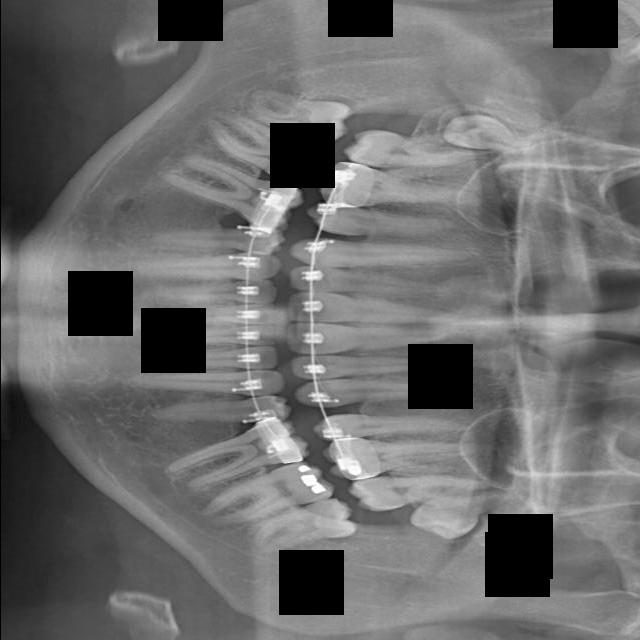3M ESPE Implant: (444, 111, 531, 155)
AGS Medikal Implant: (199, 456, 332, 533)
AMerOss Implant: (171, 412, 304, 509)
Amalgam filling: (351, 126, 459, 172)
Bicon Implant: (151, 396, 287, 428)
BioHorizons Implant: (142, 370, 289, 396)
BioLife Implant: (150, 343, 279, 371)
Biomet 3i Implant: (162, 324, 284, 345)
Blue Sky Bio Implant: (165, 302, 282, 330)
Camlog Implant: (141, 277, 275, 311)
Caries: (292, 356, 440, 380)
Composite filling: (126, 252, 274, 285)
Cowellmedi Implant: (148, 227, 280, 256)
DENTSPLY Implant: (327, 161, 427, 217)
Dentatus Implant: (166, 132, 297, 232)
Dentis Implant: (257, 146, 258, 147)
Dentium Implant: (246, 89, 349, 143)
Euroteknika Implant: (313, 207, 432, 240)
Frontier Implant: (288, 236, 459, 275)
Hiossen Implant: (298, 370, 460, 409)
Implant: (288, 290, 444, 329)
Implant Direct: (284, 264, 429, 297)
Keystone Dental Implant: (290, 316, 444, 355)
Mandible: (322, 404, 462, 441)
Maxilla: (332, 433, 461, 477)
Megagen Implant: (358, 475, 475, 509)
Neodent Implant: (405, 493, 480, 537)
Neoss Implant: (286, 528, 287, 529)
